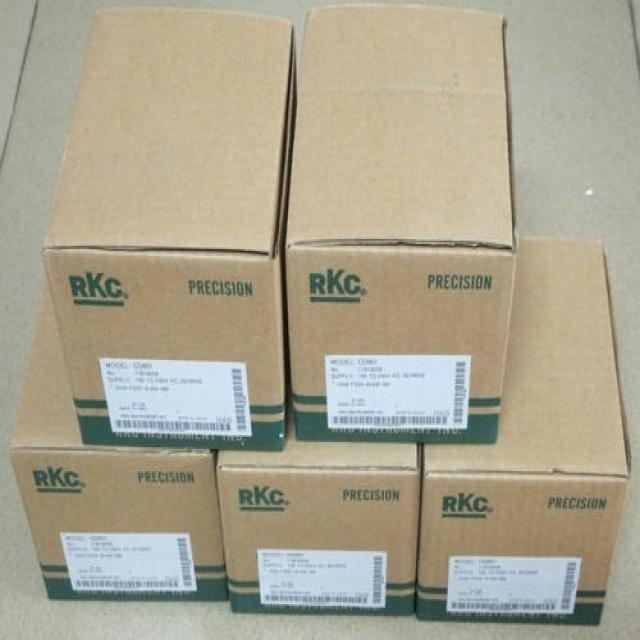box: (42, 10, 298, 449), (284, 2, 518, 442), (413, 236, 634, 628), (8, 268, 230, 602), (215, 408, 424, 616)
